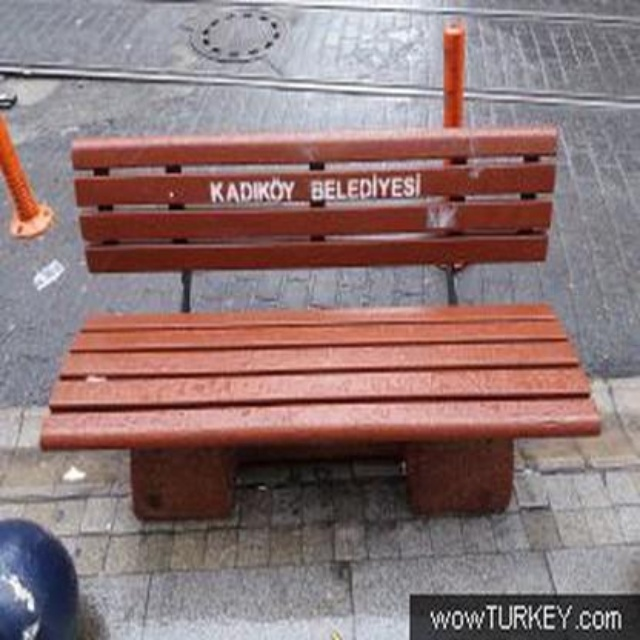obstacle: (43, 114, 588, 545)
